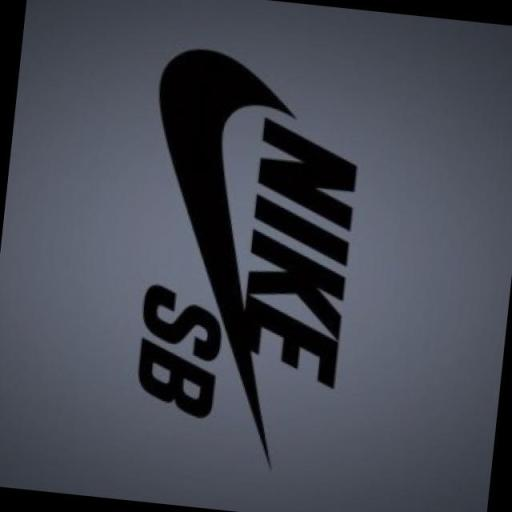Nike: (116, 44, 316, 476), (231, 112, 365, 392)
